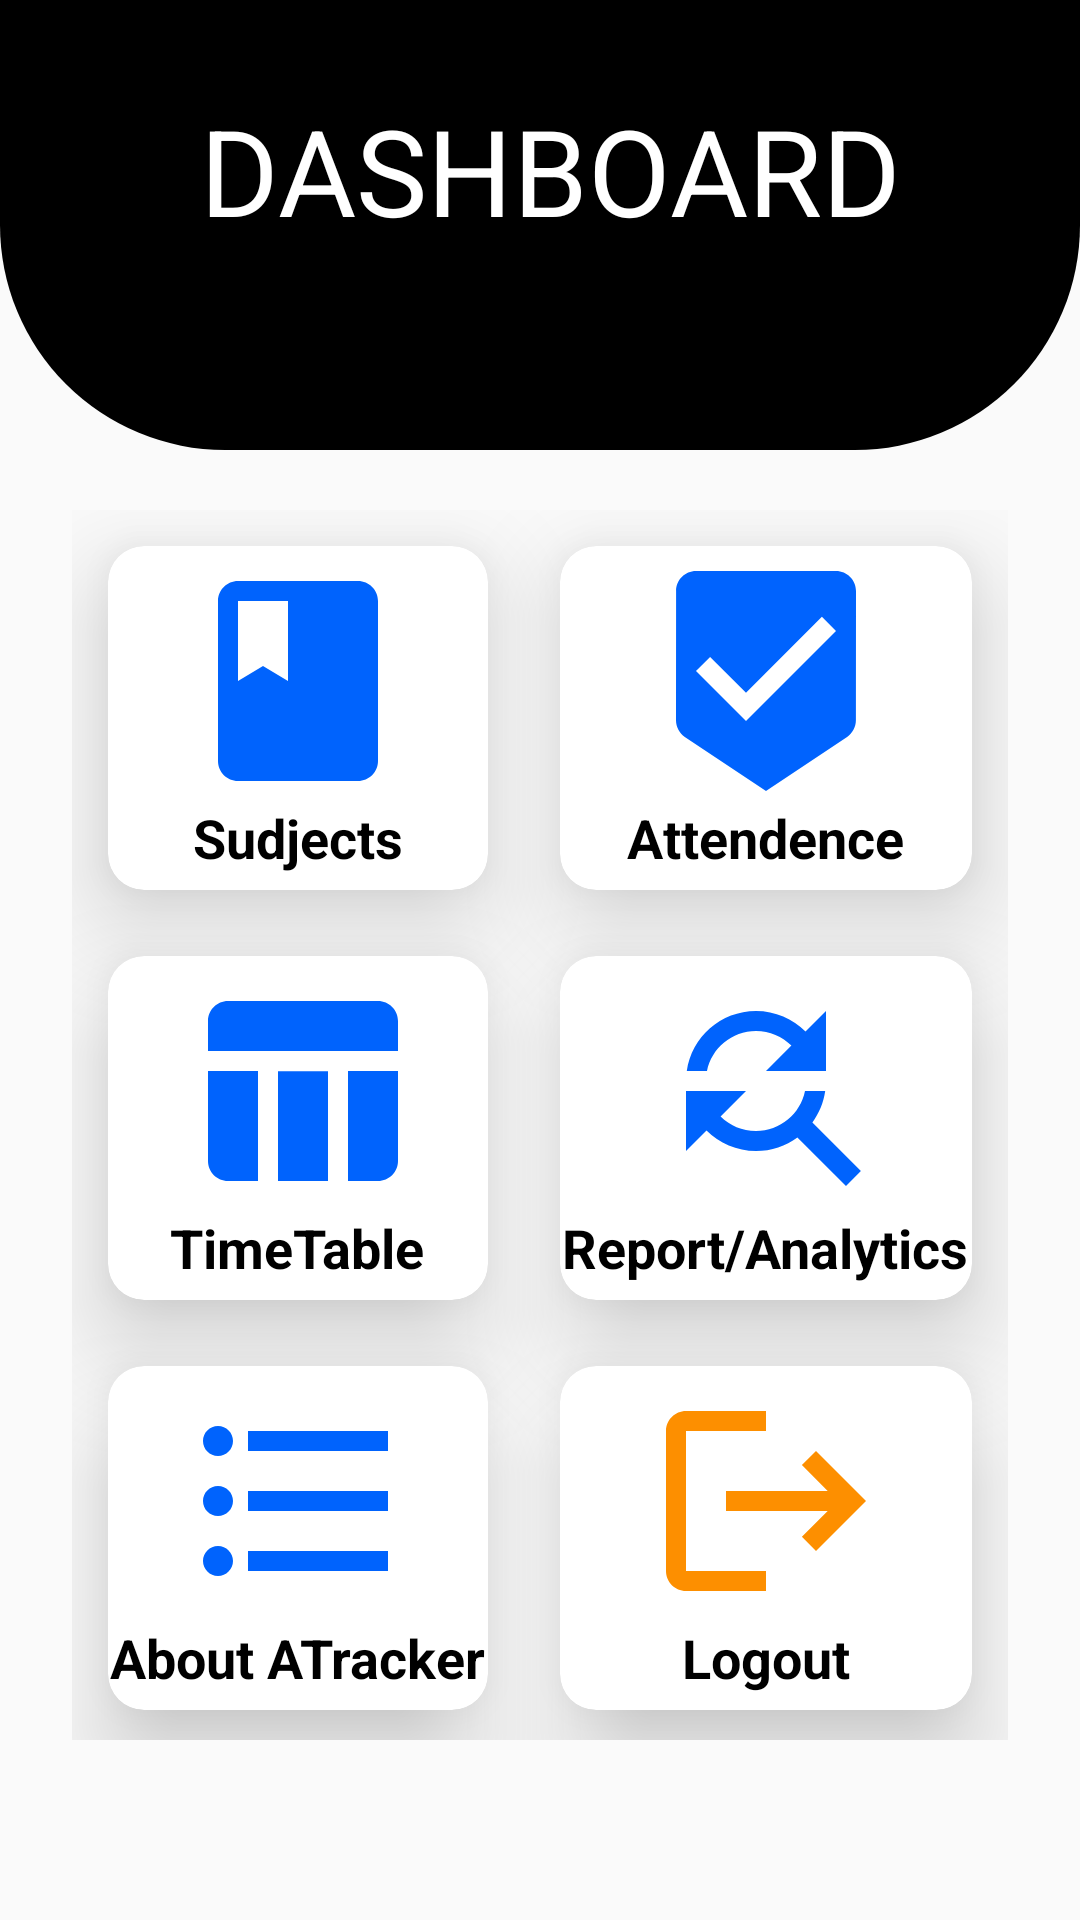

Named icons in this screenshot (1080w x 1920h) and their centers, [x,y]:
beenhere: [766,681]
list: [295,1501]
table chart: [303,1091]
